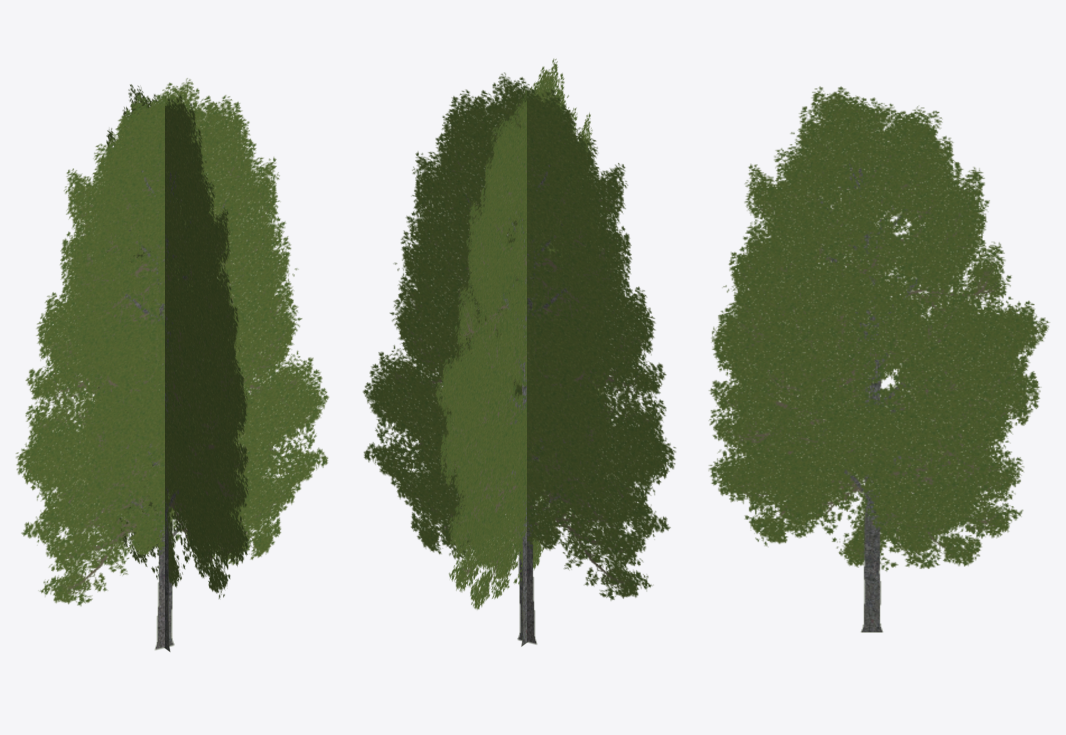
The model's file is LiquidambarStyraciflua.glb.
The picture shows the model from 3 angles, left to right: view 1: azimuth 30°, elevation 25°; view 2: azimuth 150°, elevation 25°; view 3: azimuth 270°, elevation 25°; orthographic projection. The views are drawn at different scales.
Parts seen in each view (by area): view 1: mesh__mat_billboard_9; view 2: mesh__mat_billboard_9; view 3: mesh__mat_billboard_9.
Boxes of the visible parts, bbox=[...] form: mesh__mat_billboard_9: bbox=[16, 78, 329, 651]; mesh__mat_billboard_9: bbox=[363, 58, 675, 646]; mesh__mat_billboard_9: bbox=[708, 86, 1049, 632].
Size of the model in its own units: 8.73 by 15.12 by 8.51.
1 material, 1 textured.
